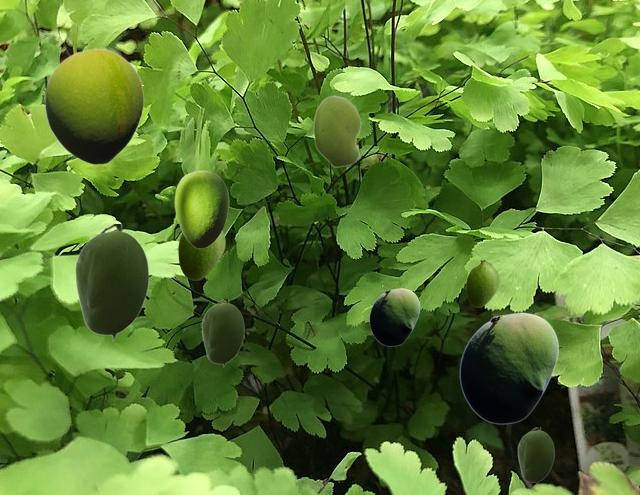green_mango: (44, 48, 143, 164), (459, 312, 558, 423), (74, 224, 148, 340), (174, 170, 228, 247), (313, 95, 360, 167), (369, 288, 419, 345), (201, 299, 243, 366), (178, 231, 224, 279), (517, 427, 553, 484), (466, 259, 498, 306)
